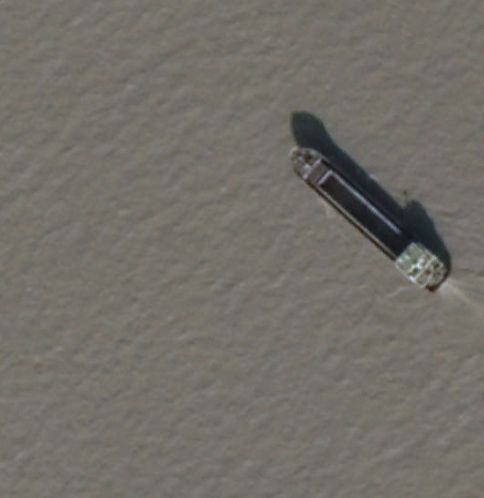boat: (284, 140, 454, 298)
